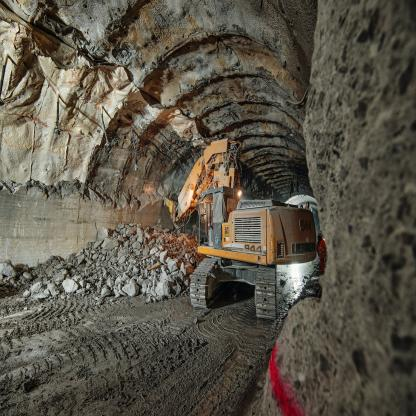excavator: (160, 124, 336, 334)
person: (315, 229, 331, 294)
